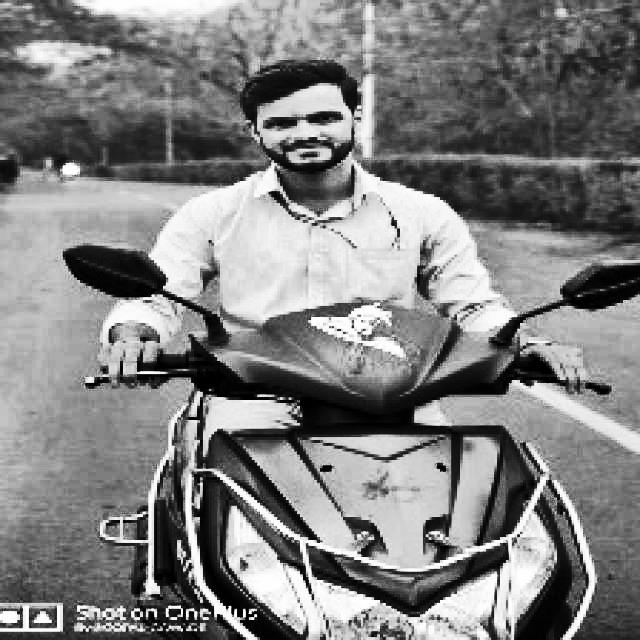Bike: (97, 294, 621, 637)
